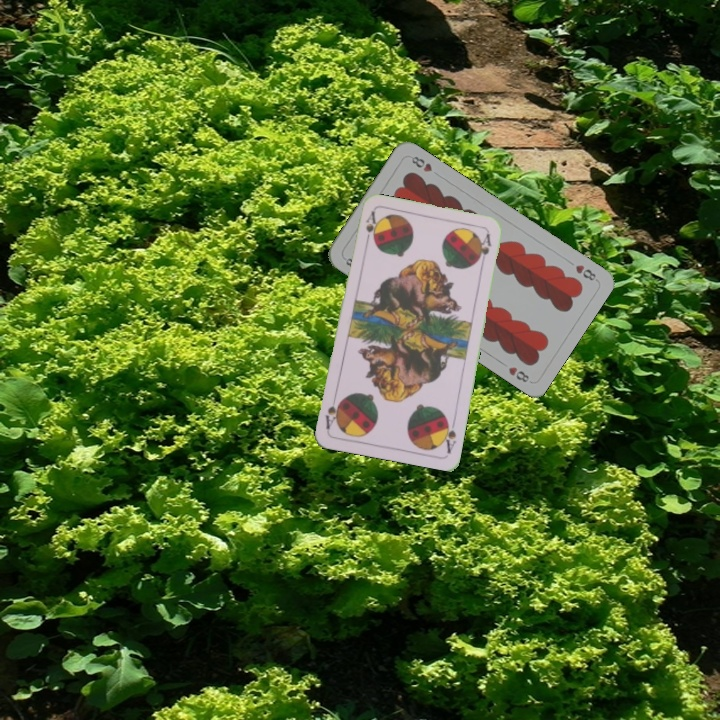H8: (571, 260, 600, 283)
SA: (439, 414, 458, 455), (361, 208, 378, 248)
